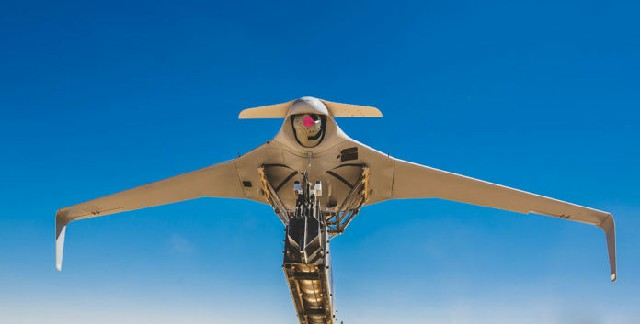maybay_khongnguoilai: (46, 94, 618, 316)
